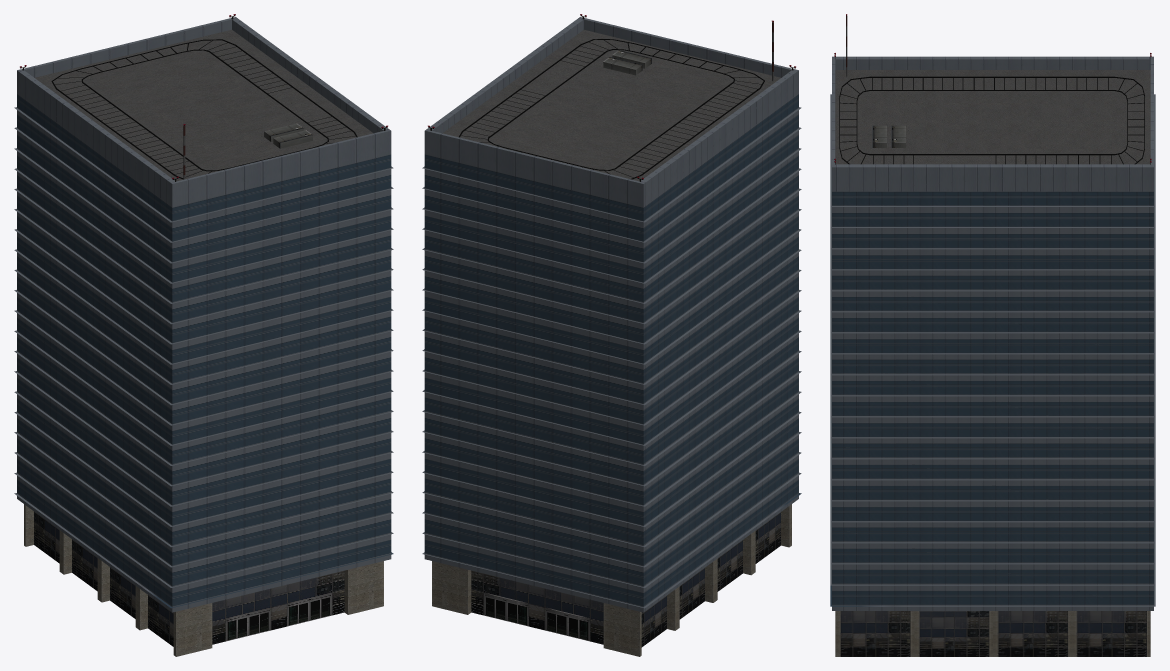
3 views of the same model, side by side, from view 1: azimuth 30°, elevation 25°; view 2: azimuth 150°, elevation 25°; view 3: azimuth 270°, elevation 25° (orthographic). The views are drawn at different scales.
Visible parts, largest first — view 1: 45building.002; view 2: 45building.002; view 3: 45building.002.
Boxes of the visible parts, x1,y1,x2,y2 form: 45building.002: (14, 14, 393, 656); 45building.002: (422, 14, 801, 656); 45building.002: (830, 14, 1155, 656).
Bounding box in the file's own units: 1.07 × 2.4 × 1.3.
